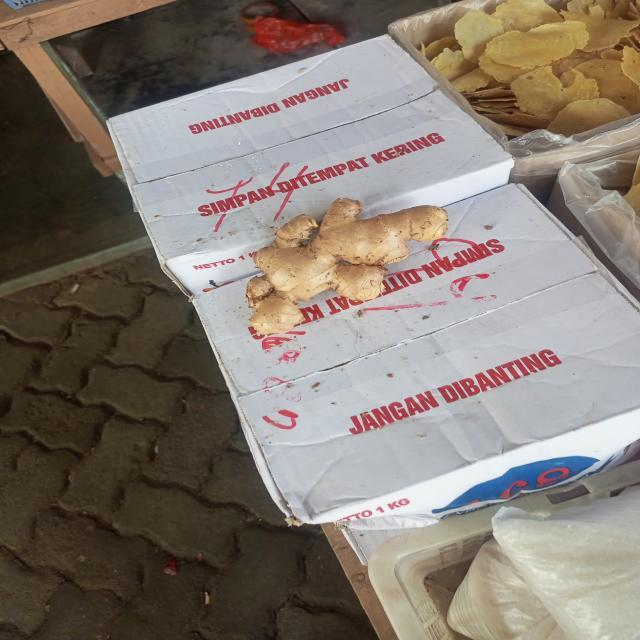ginger: (246, 201, 454, 334)
